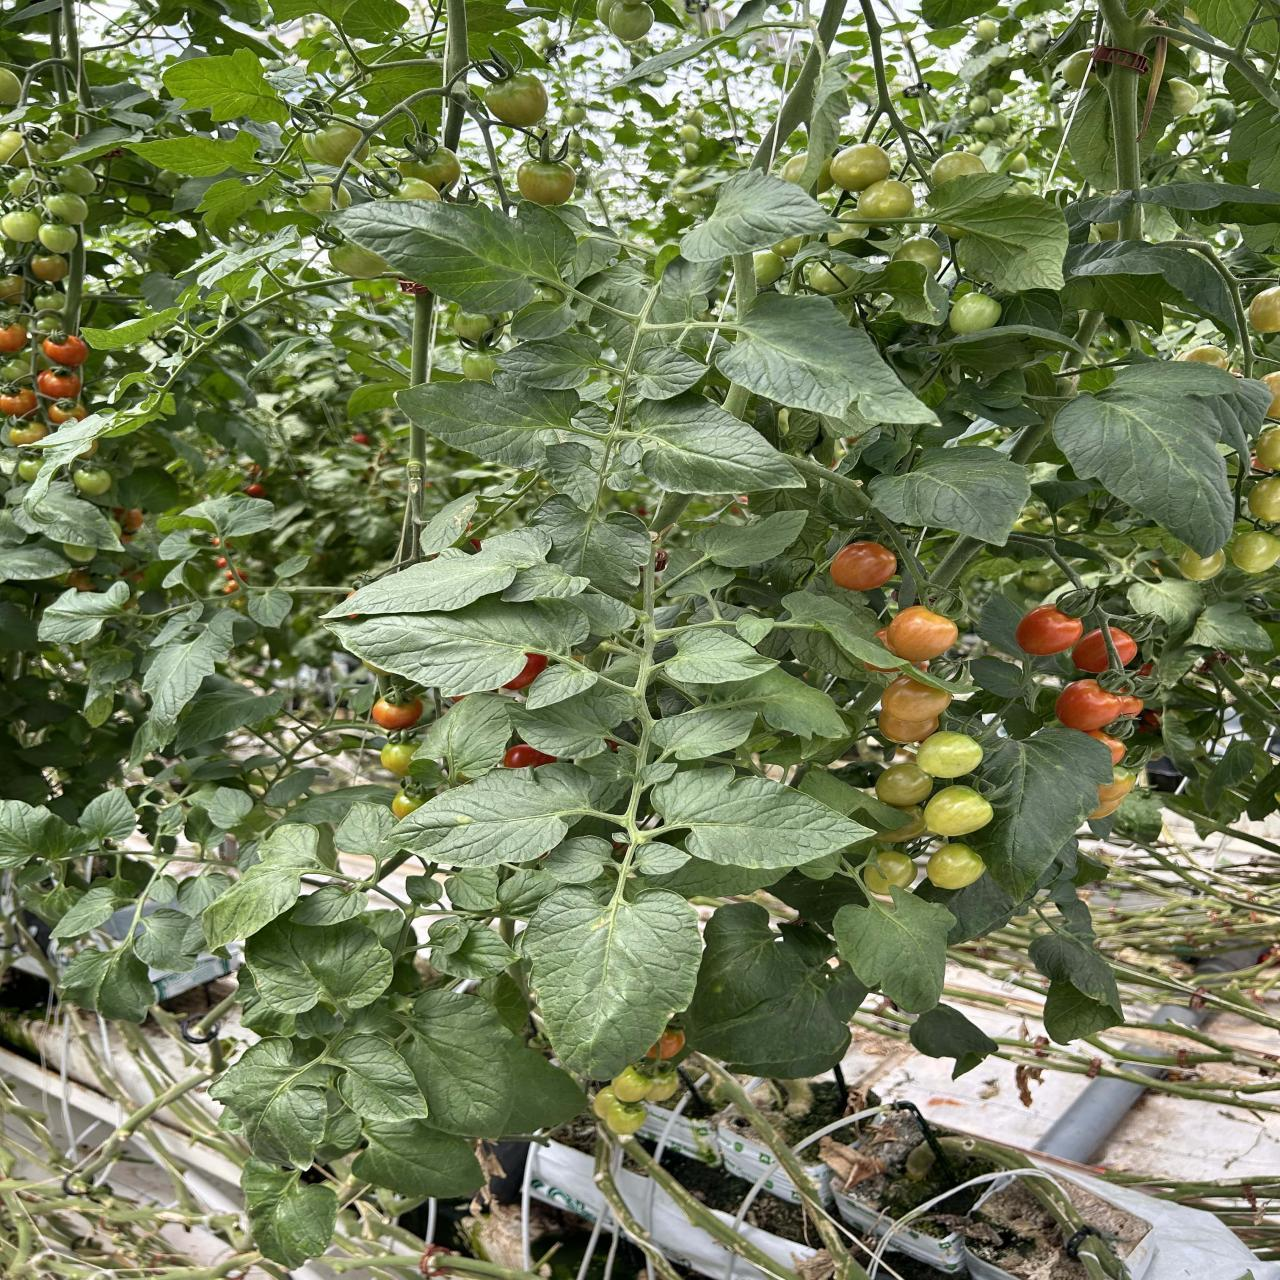Hoja: (1053, 361, 1268, 556), (519, 881, 703, 1081), (676, 903, 866, 1078), (332, 200, 619, 313), (715, 294, 935, 435), (396, 989, 583, 1137), (329, 595, 590, 696), (969, 727, 1111, 899), (652, 767, 873, 870), (390, 767, 602, 866), (627, 395, 803, 495), (397, 374, 581, 468), (928, 172, 1068, 294), (246, 913, 393, 1022), (867, 448, 1030, 544), (832, 888, 954, 1013), (681, 170, 838, 261), (241, 1158, 338, 1267), (352, 1121, 483, 1197), (322, 1032, 428, 1123), (163, 49, 288, 122), (689, 510, 808, 567), (665, 627, 778, 685), (38, 580, 130, 645), (651, 707, 757, 761), (130, 132, 259, 177), (498, 334, 599, 388), (198, 178, 267, 243), (82, 307, 179, 350), (629, 347, 706, 399), (526, 660, 600, 709), (538, 836, 613, 884), (421, 495, 478, 554), (476, 972, 529, 1035), (511, 301, 576, 342), (633, 842, 693, 876)
Pedunculo: (618, 561, 659, 831), (750, 36, 824, 170), (1095, 0, 1144, 190), (396, 421, 427, 563), (1056, 309, 1102, 396), (930, 536, 987, 591), (52, 0, 83, 90), (62, 222, 86, 334), (410, 287, 435, 383), (733, 252, 757, 320), (1009, 420, 1046, 464), (448, 0, 469, 69), (443, 94, 465, 151), (723, 382, 750, 417), (1122, 212, 1142, 239), (822, 0, 844, 21), (449, 0, 462, 20)
Tomate: (878, 678, 951, 743), (1055, 679, 1143, 733), (877, 606, 958, 663), (924, 785, 993, 837), (1016, 605, 1083, 655), (484, 74, 547, 127), (830, 542, 897, 591), (915, 730, 983, 778), (926, 843, 986, 890), (830, 144, 890, 190), (876, 761, 933, 808), (517, 159, 576, 205), (301, 124, 362, 166), (400, 148, 461, 190), (593, 1087, 646, 1135), (1089, 769, 1137, 821), (857, 179, 914, 220), (1225, 532, 1280, 573), (949, 292, 1001, 334), (329, 243, 388, 279), (607, 0, 654, 41), (892, 236, 942, 273), (931, 151, 985, 185), (370, 696, 423, 730), (1071, 629, 1109, 673), (608, 1067, 652, 1103), (1179, 547, 1225, 581), (41, 335, 88, 367), (1248, 477, 1280, 524), (43, 192, 88, 224), (38, 370, 82, 401), (0, 211, 40, 243), (8, 417, 50, 447), (38, 224, 77, 254), (647, 1028, 685, 1060), (1254, 425, 1280, 470), (381, 744, 416, 776), (0, 388, 38, 417), (59, 165, 96, 195), (72, 469, 111, 496), (30, 254, 68, 282), (646, 1070, 679, 1102), (396, 177, 440, 200), (1110, 627, 1137, 665), (299, 185, 333, 213), (0, 324, 29, 355), (392, 792, 425, 818), (16, 458, 43, 482), (336, 185, 355, 210), (355, 142, 372, 164)
